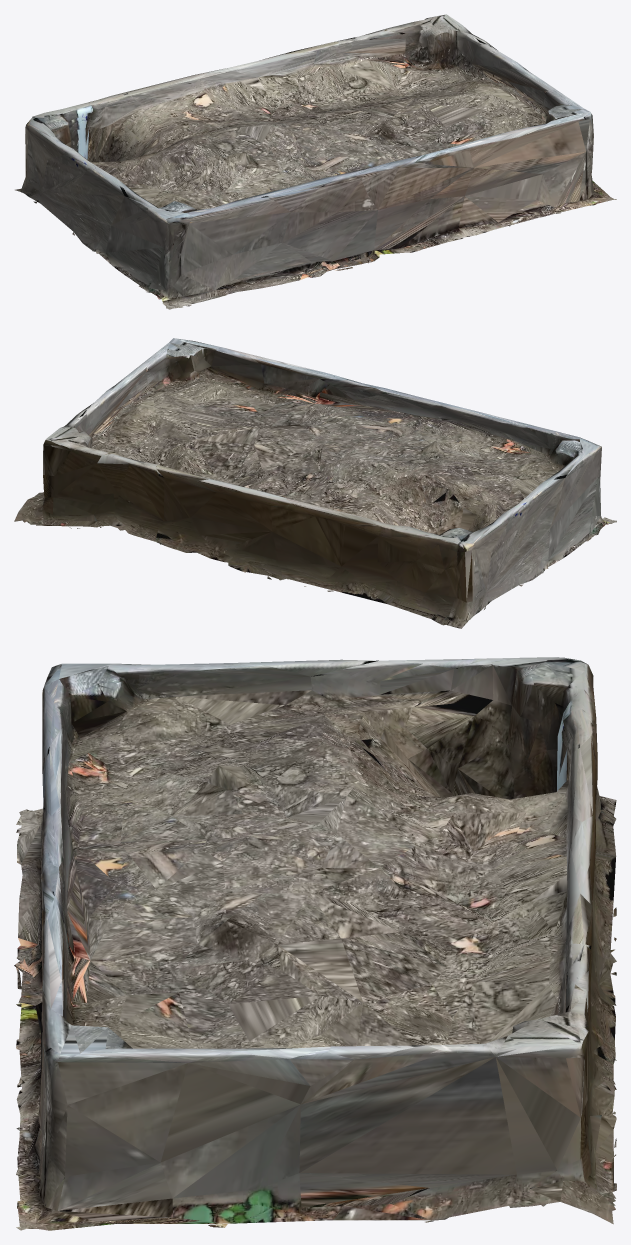
Rendered from fab-odling.glb.
3 renders of one model, top to bottom at view 1: azimuth 30°, elevation 25°; view 2: azimuth 150°, elevation 25°; view 3: azimuth 270°, elevation 25°, orthographic. The views are drawn at different scales.
Parts seen in each view (by area): view 1: odling; view 2: odling; view 3: odling.
Part boxes in pixels (<box>): odling: <box>15,14,616,309</box>; odling: <box>14,338,616,628</box>; odling: <box>14,657,616,1230</box>.
Size of the model in its own units: 1.09 by 0.2247 by 0.6559.
1 material, 1 textured.
